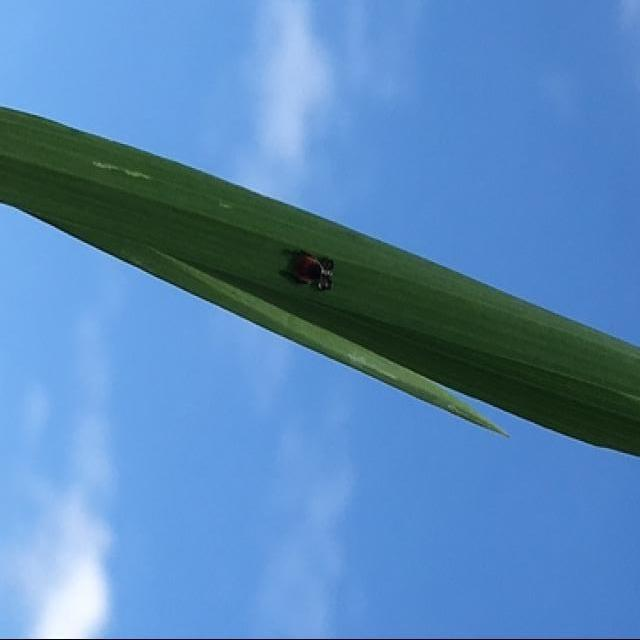Ixodes Ricinus-F: (274, 249, 334, 294)
